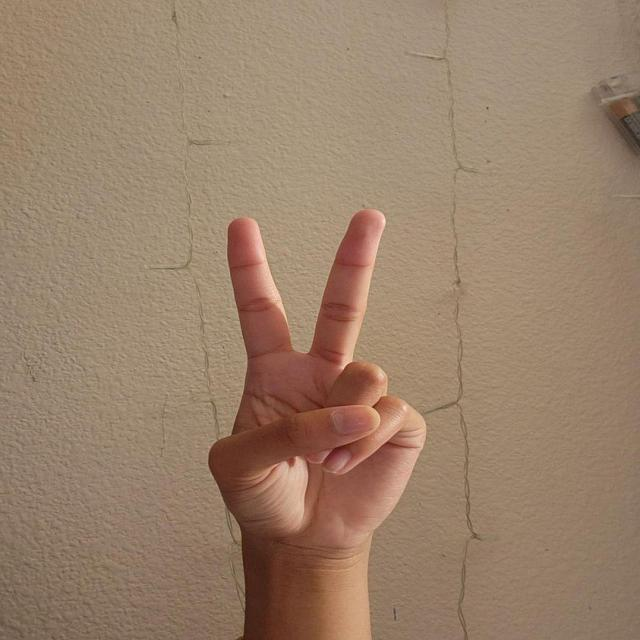V: (212, 205, 434, 553)
